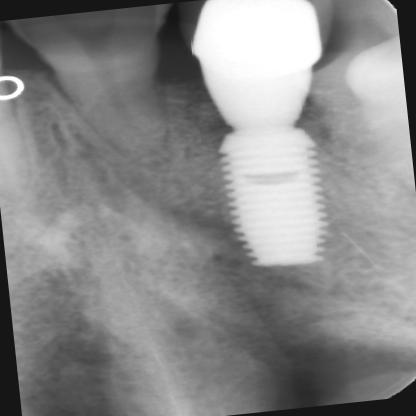Bicon: (211, 123, 332, 270)
